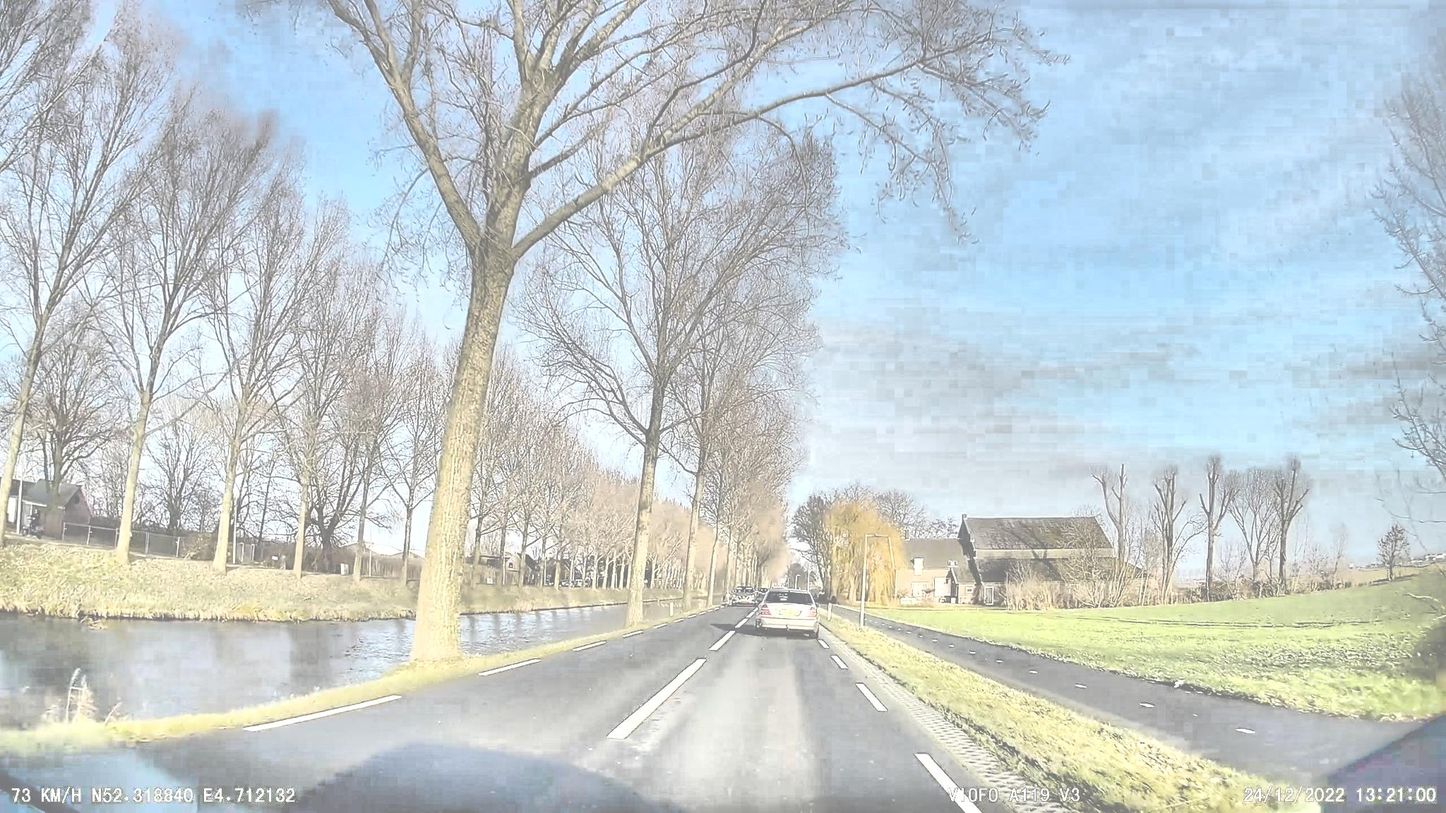Roads: (14, 607, 1073, 813)
